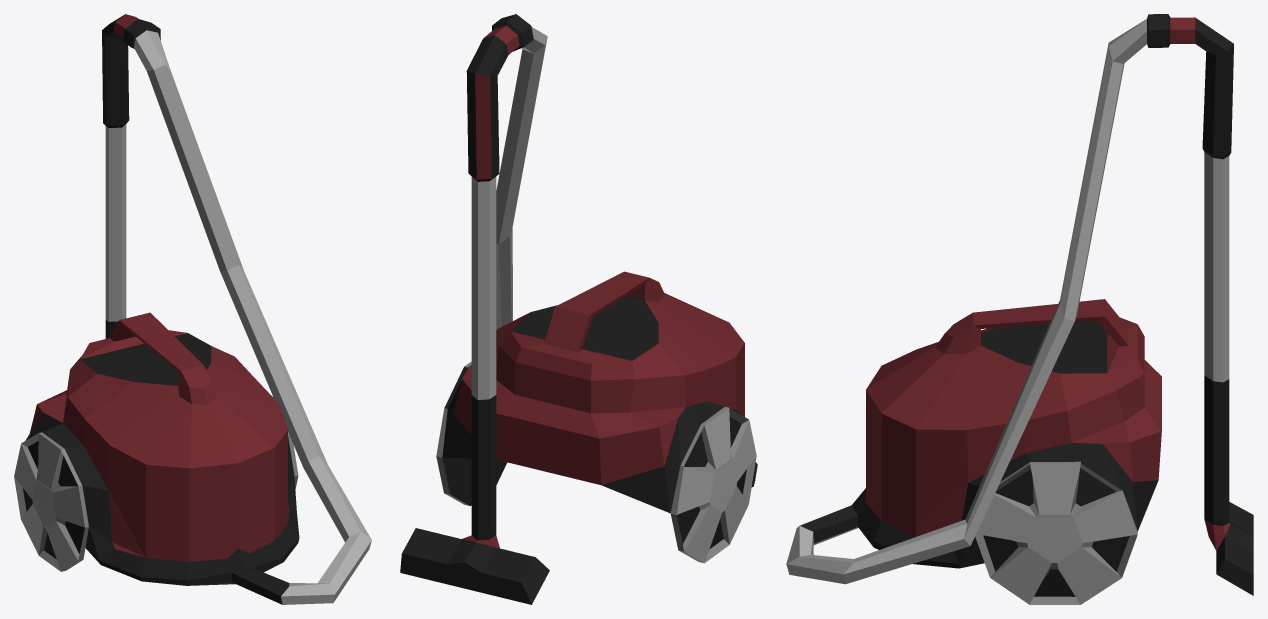
File: vacuum.fbx
3 renders of one model, left to right at view 1: azimuth 30°, elevation 25°; view 2: azimuth 150°, elevation 25°; view 3: azimuth 270°, elevation 25°, orthographic. The views are drawn at different scales.
Visible parts, largest first — view 1: Vacuum; view 2: Vacuum; view 3: Vacuum.
Part boxes in pixels (left/top/right/bottom): Vacuum: left=14, top=14, right=371, bottom=604; Vacuum: left=400, top=14, right=757, bottom=604; Vacuum: left=786, top=14, right=1253, bottom=604.
Size of the model in its own units: 235 by 438 by 337.
